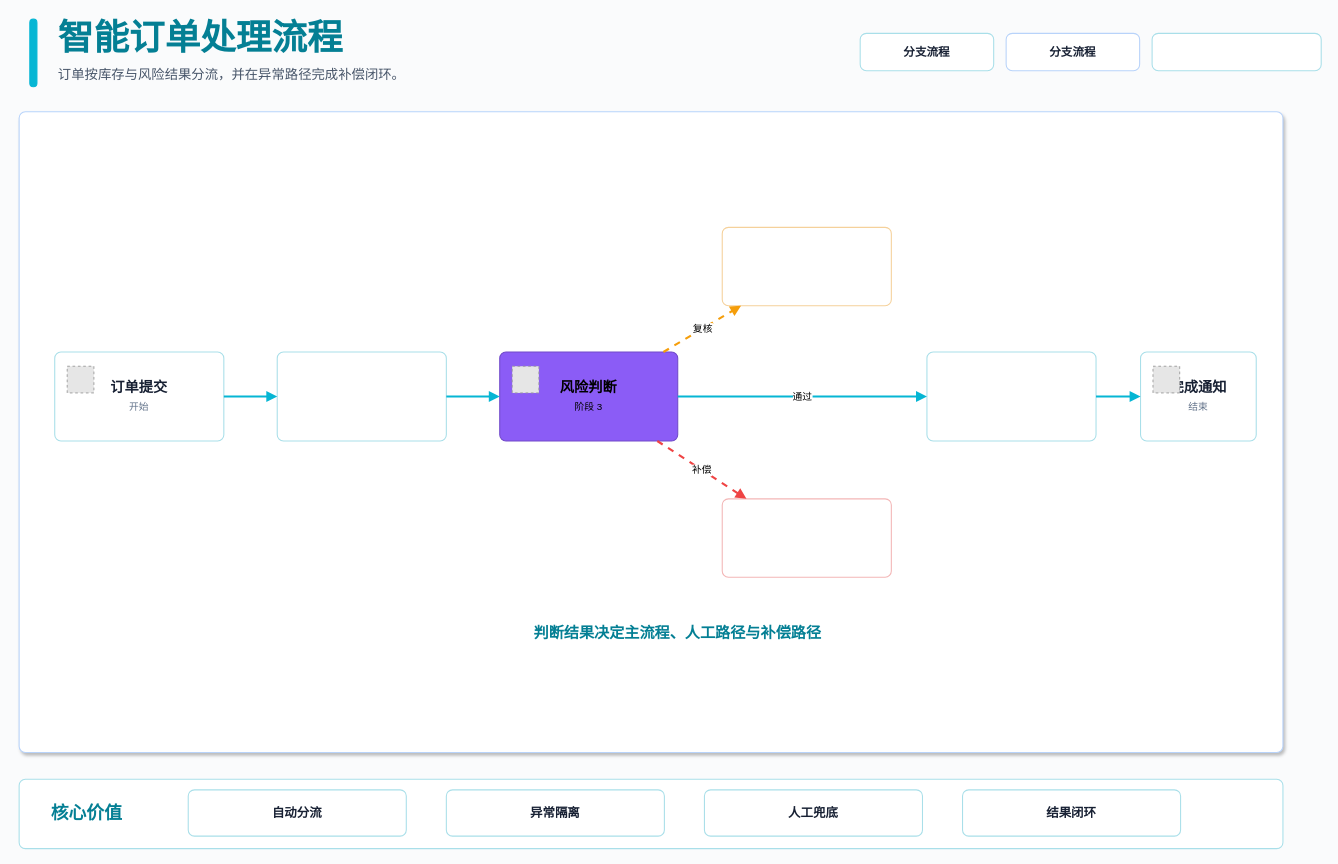
This 1338x864 diagram has some shape labels left out. Grey dashed boxes stand in for pictures. The centre of each missing label's shape, as x and y in pixels:
Vibrant: the point at 1236,51
人工复核 风险路径: the point at 806,266
失败补偿 补偿路径: the point at 806,537
库存校验 阶段 2: the point at 361,396
自动履约 阶段 4: the point at 1011,396
